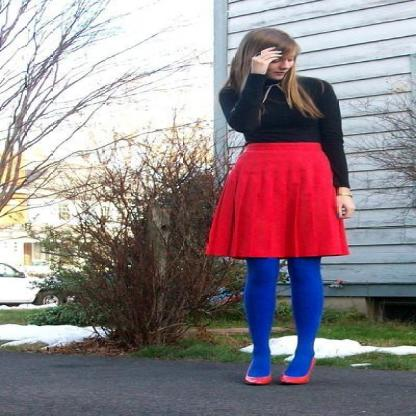shirt: (218, 72, 361, 190)
shoe: (246, 358, 314, 382)
skirt: (205, 142, 352, 257)
